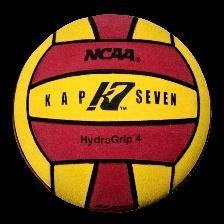Sports-Ball: (14, 11, 214, 218)
